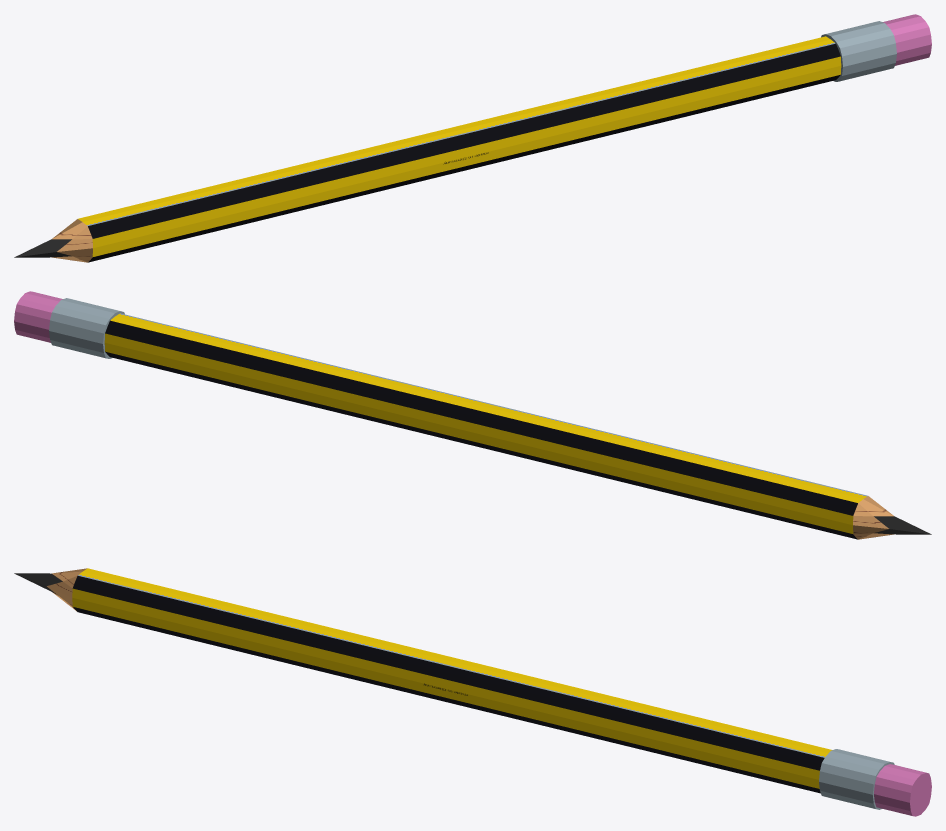
File: Pencil.fbx
3 renders of one model, top to bottom at view 1: azimuth 30°, elevation 25°; view 2: azimuth 150°, elevation 25°; view 3: azimuth 330°, elevation 25°, orthographic.
Visible parts, largest first — view 1: pCube1; view 2: pCube1; view 3: pCube1.
Part boxes in pixels (x1=…): pCube1: x1=14, y1=14, x2=931, y2=262; pCube1: x1=14, y1=291, x2=931, y2=539; pCube1: x1=14, y1=568, x2=931, y2=816.
Size of the model in its own units: 12.26 by 0.5677 by 0.5677.
